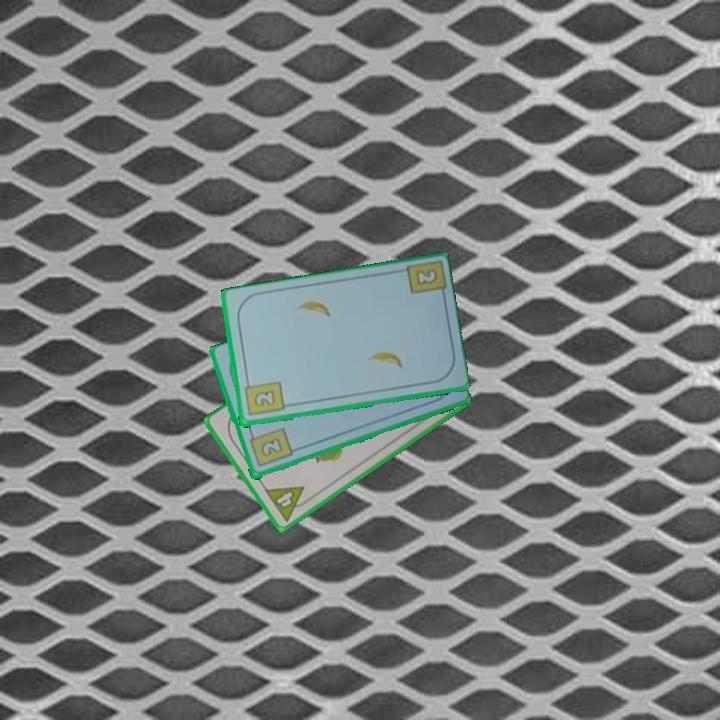2b: (246, 425, 295, 470), (241, 377, 286, 419), (412, 265, 440, 289)
4p: (261, 482, 315, 525)
